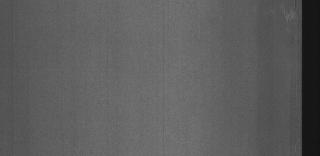silk spot: (275, 4, 299, 26)
